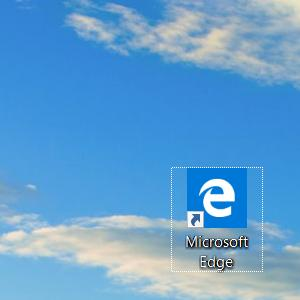edge: (187, 168, 247, 228)
